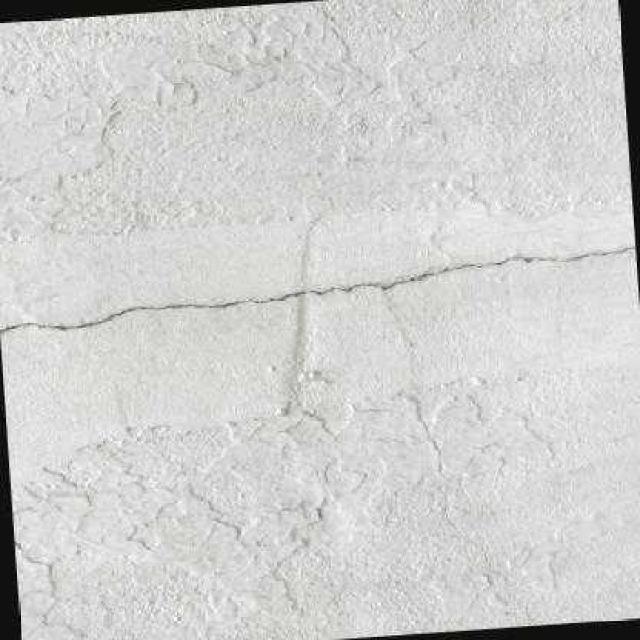D00: (0, 245, 636, 331)
